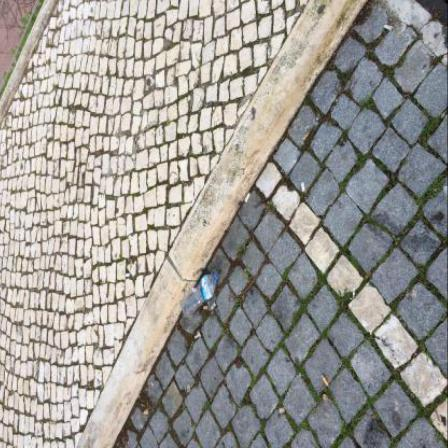Bottle: (182, 272, 220, 318)
Cigarette: (323, 376, 331, 388), (246, 193, 252, 204), (304, 135, 311, 143), (303, 183, 307, 193), (196, 335, 202, 341), (206, 307, 210, 311)
